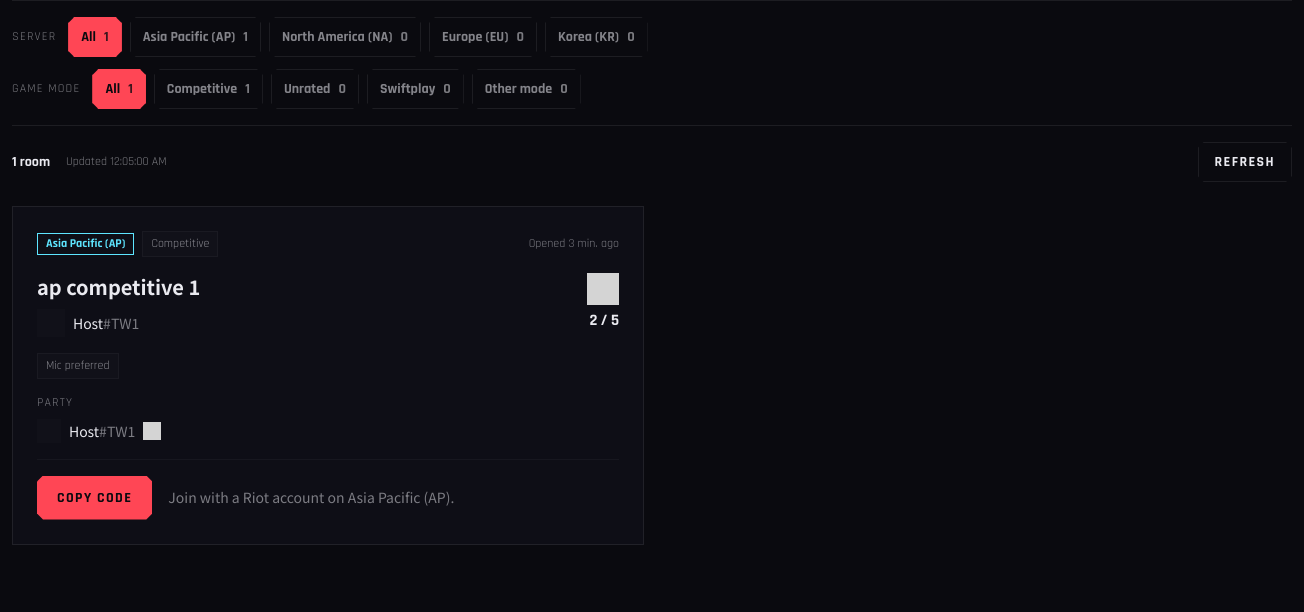
copy code › still shows the code when the browser refuses to copy, and copies on the second press
Click the button "Copy code" at [95, 498], box [37, 476, 152, 520]
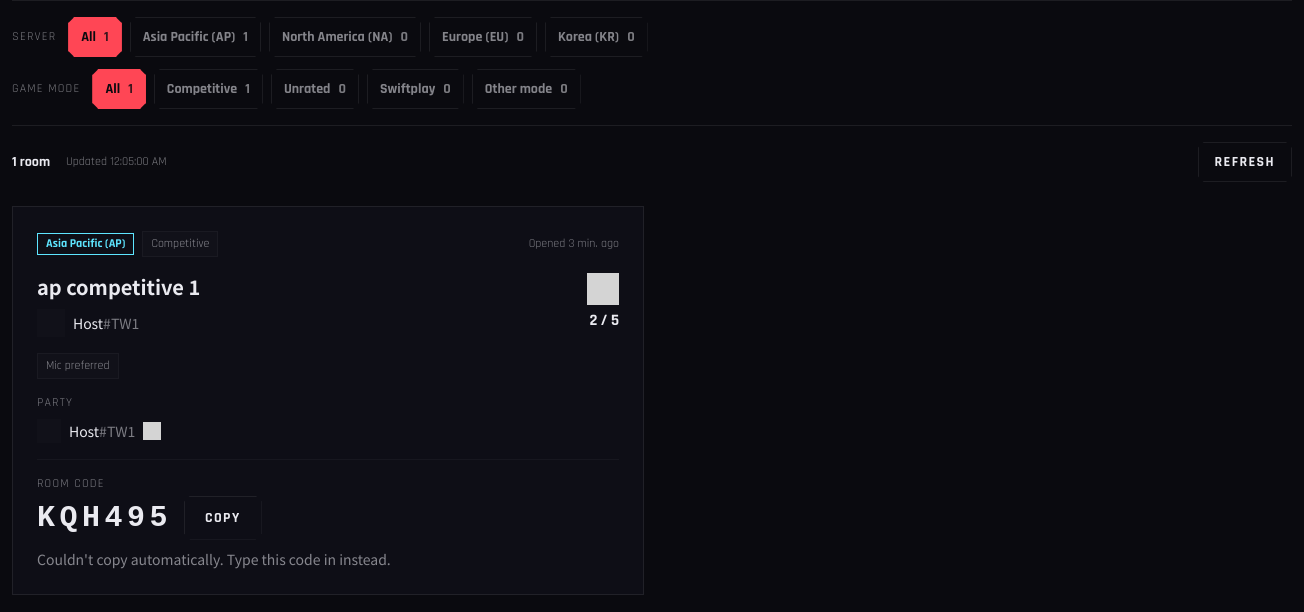
Expected: the text "Couldn't copy automatically. Type this code in instead." is shown, [37, 548, 391, 568]
Expected: the text "KQH495" is shown, [37, 500, 172, 536]
Click the button "Copy" at [223, 518], box [184, 496, 262, 540]
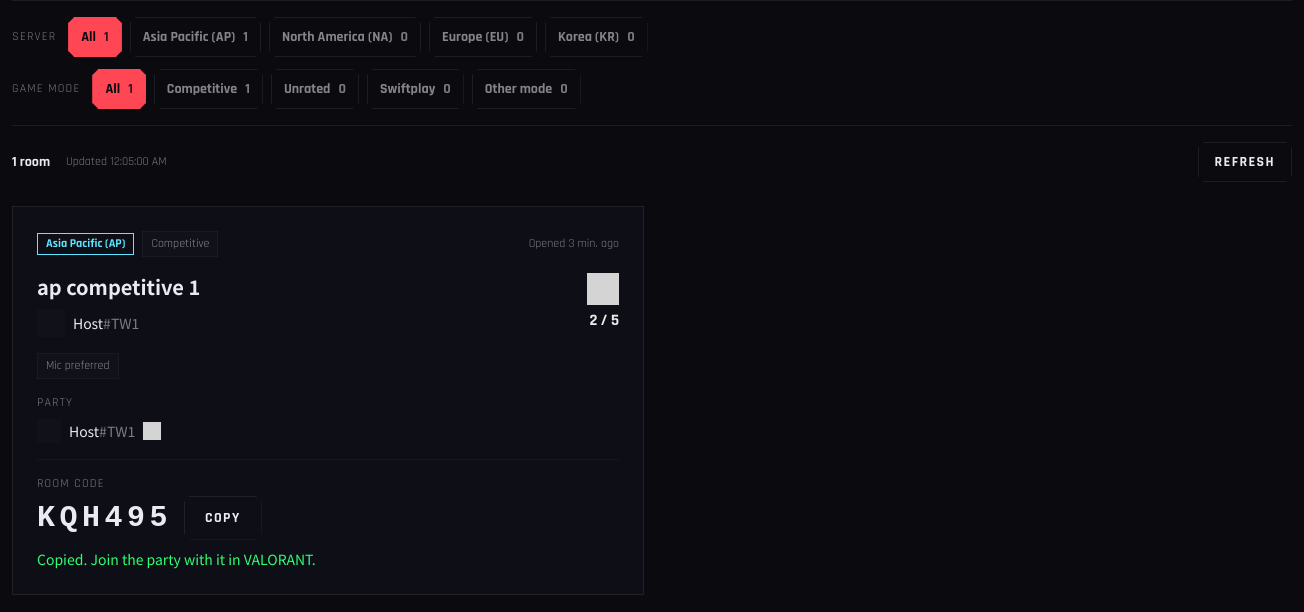
Expected: the text "Copied. Join the party with it in VALORANT." is shown, [37, 548, 316, 568]
